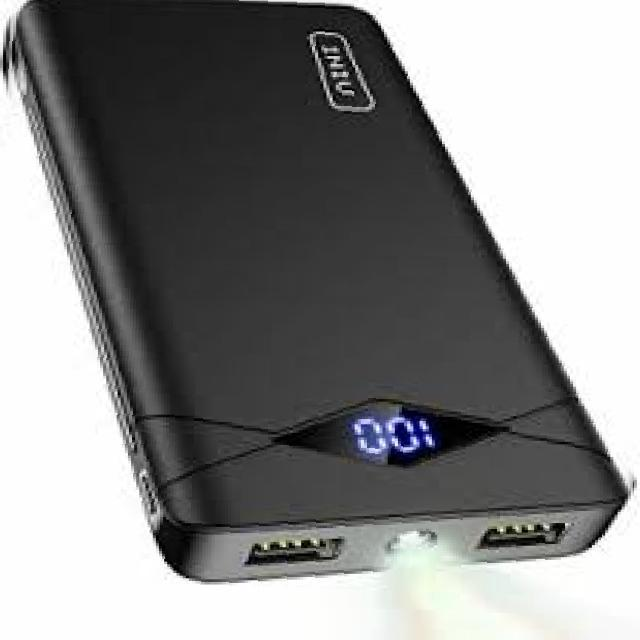Battery: (8, 0, 631, 589)
